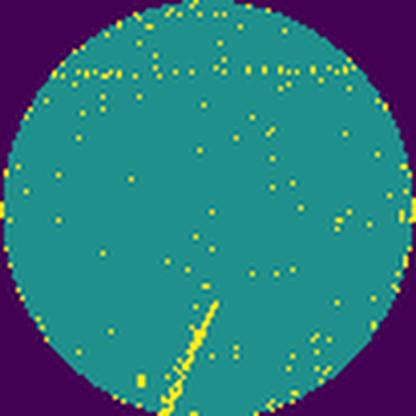Scratch: (152, 296, 224, 416)
